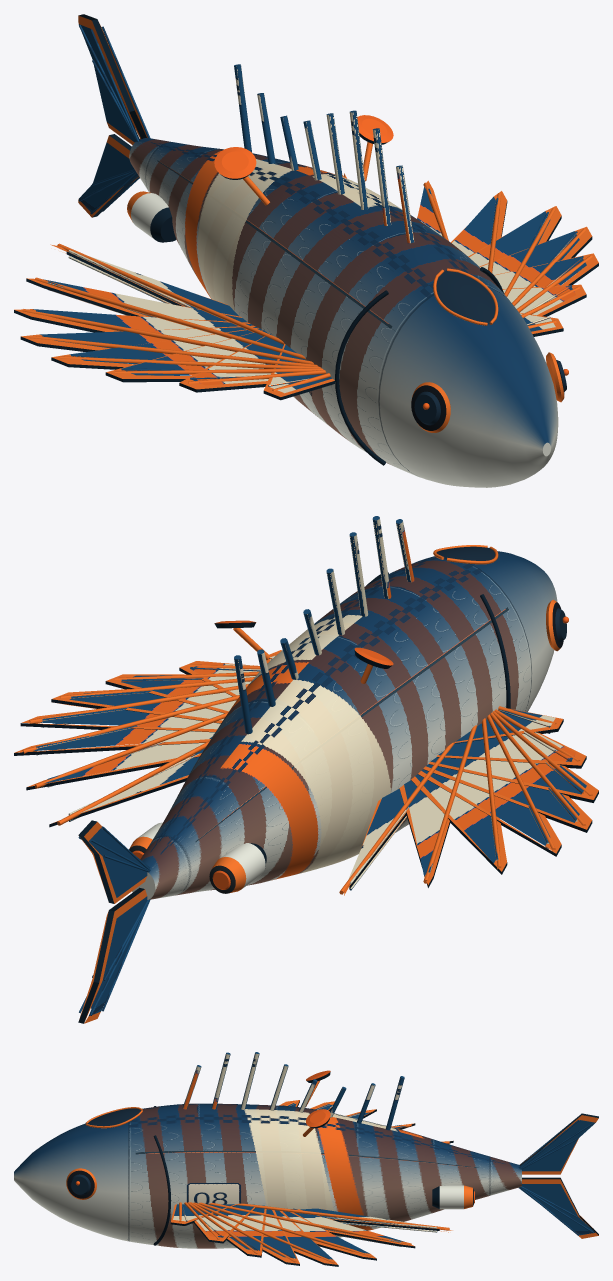
3 views of the same model, one above another, from view 1: azimuth 30°, elevation 25°; view 2: azimuth 150°, elevation 25°; view 3: azimuth 270°, elevation 25° (orthographic). The views are drawn at different scales.
Parts seen in each view (by area): view 1: lionfish_hull; view 2: lionfish_hull; view 3: lionfish_hull.
Part boxes in pixels (x1=…): lionfish_hull: x1=14, y1=14, x2=598, y2=487; lionfish_hull: x1=14, y1=516, x2=598, y2=1023; lionfish_hull: x1=14, y1=1052, x2=598, y2=1266.
Bounding box in the file's own units: 25.23 × 13.71 × 38.
1 material, 1 textured.
